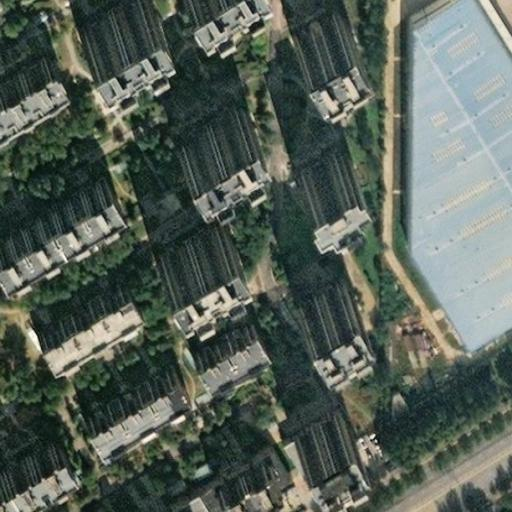building: (393, 0, 512, 332), (0, 168, 106, 260), (76, 354, 178, 429), (24, 273, 125, 348), (162, 94, 243, 160), (138, 208, 219, 269), (184, 308, 256, 367), (275, 2, 340, 59), (287, 265, 350, 320), (275, 397, 337, 452), (204, 446, 268, 498), (0, 44, 52, 98), (281, 135, 341, 180), (139, 494, 181, 512)
